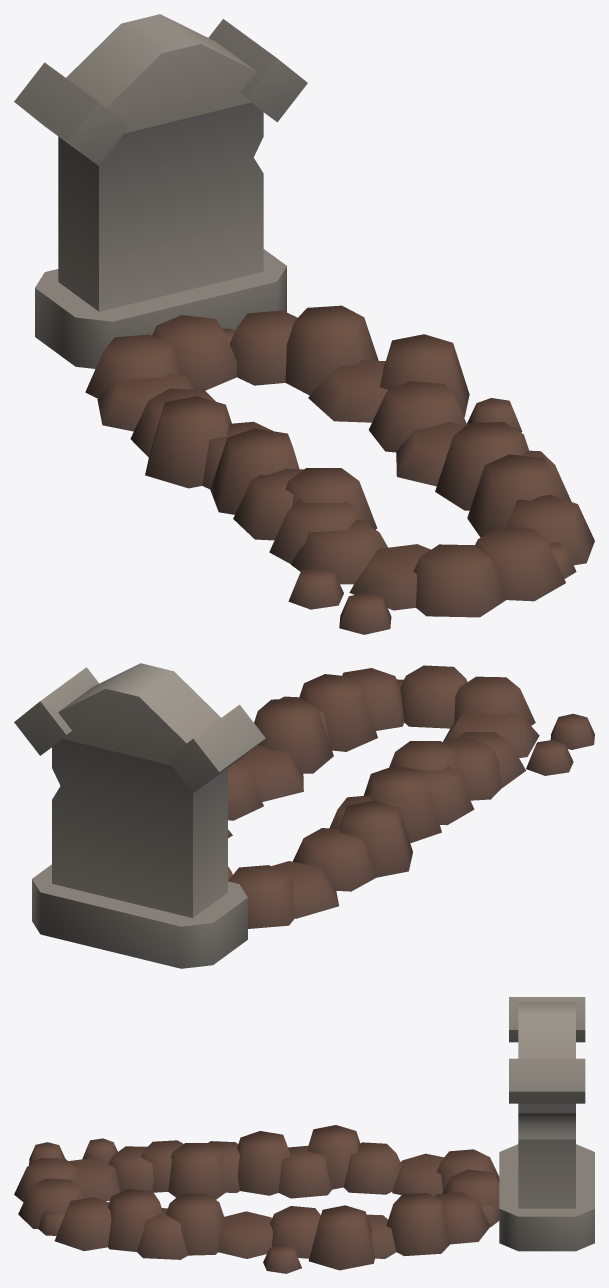
Rendered from grave-decorative.glb.
3 renders of one model, top to bottom at view 1: azimuth 30°, elevation 25°; view 2: azimuth 150°, elevation 25°; view 3: azimuth 270°, elevation 25°, orthographic. The views are drawn at different scales.
Parts seen in each view (by area): view 1: grave-border, gravestone-decorative; view 2: gravestone-decorative, grave-border; view 3: grave-border, gravestone-decorative.
Boxes of the visible parts, bbox=[...] form: grave-border: bbox=[85, 305, 594, 634]; gravestone-decorative: bbox=[14, 14, 307, 368]; gravestone-decorative: bbox=[14, 663, 265, 968]; grave-border: bbox=[228, 665, 594, 928]; grave-border: bbox=[14, 1125, 499, 1273]; gravestone-decorative: bbox=[499, 997, 594, 1251].
Bounding box in the file's own units: 0.7617 × 0.5942 × 1.52.
Materials: 1 (1 with a texture image).
